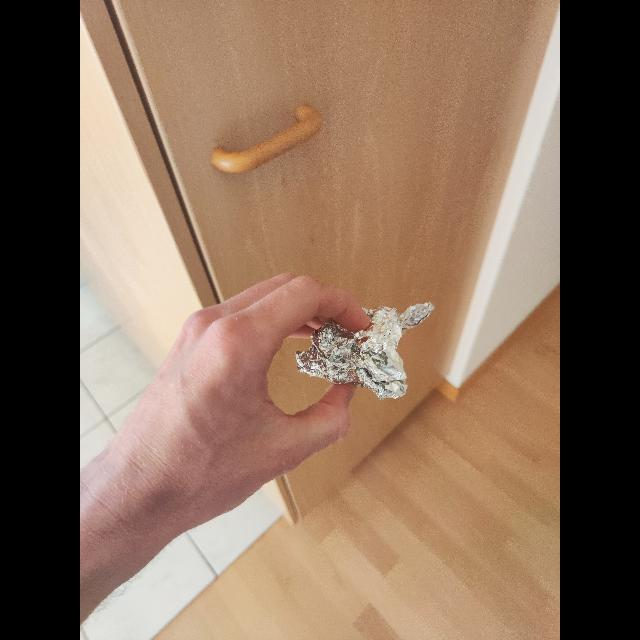Metal: (290, 296, 442, 409)
